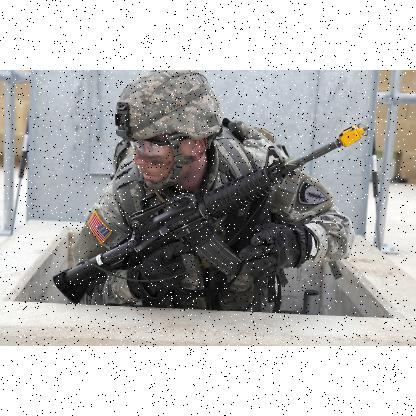gun: (52, 121, 367, 301)
